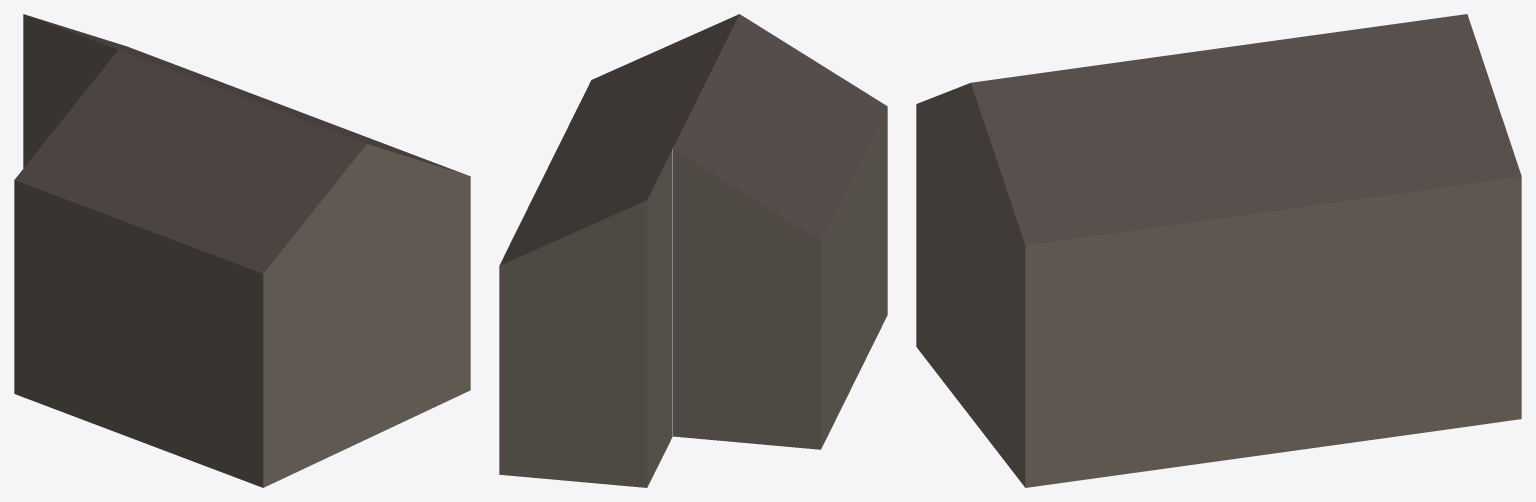
3 views of the same model, side by side, from view 1: azimuth 30°, elevation 25°; view 2: azimuth 150°, elevation 25°; view 3: azimuth 270°, elevation 25° (orthographic). The views are drawn at different scales.
Parts seen in each view (by area): view 1: HP-w1198645101; view 2: HP-w1198645101; view 3: HP-w1198645101.
Part boxes in pixels (x1=…): HP-w1198645101: x1=14, y1=14, x2=470, y2=487; HP-w1198645101: x1=499, y1=14, x2=887, y2=487; HP-w1198645101: x1=916, y1=14, x2=1521, y2=487.
Bounding box in the file's own units: 10.15 × 8.28 × 13.58.
